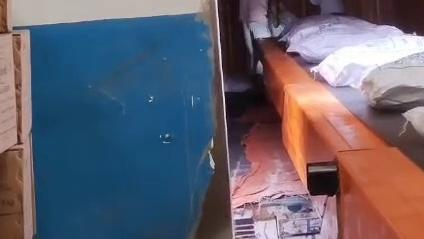box: (312, 34, 424, 87), (287, 26, 402, 62), (360, 52, 424, 109), (404, 105, 424, 138)
